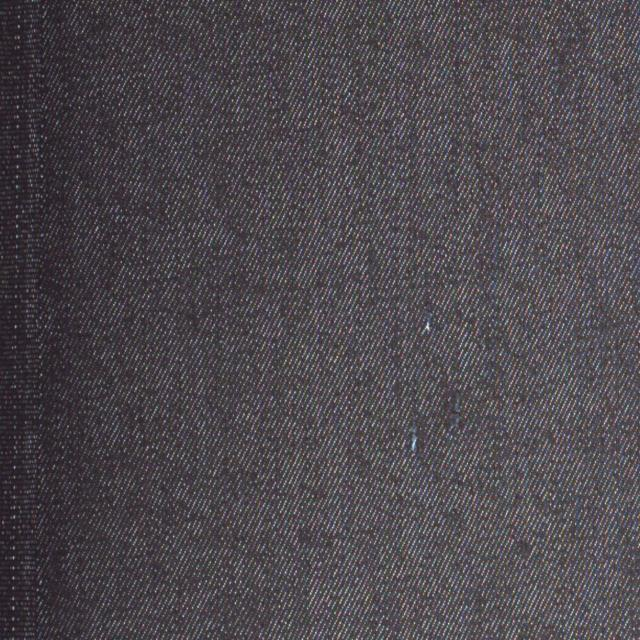Warp_Weft: (10, 0, 24, 639)
